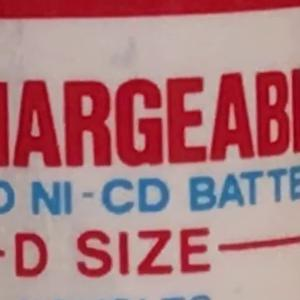keyword: (22, 168, 179, 246)
